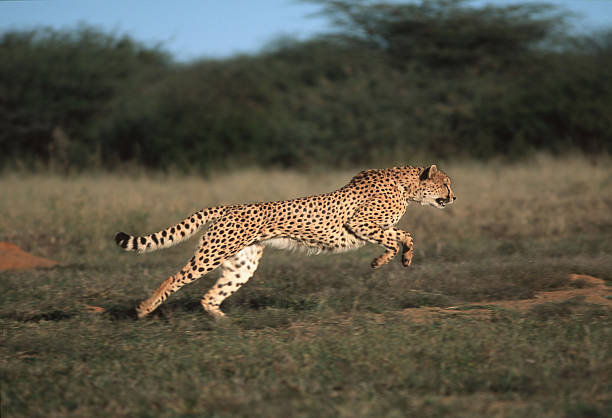cheetah: (417, 159, 462, 216)
